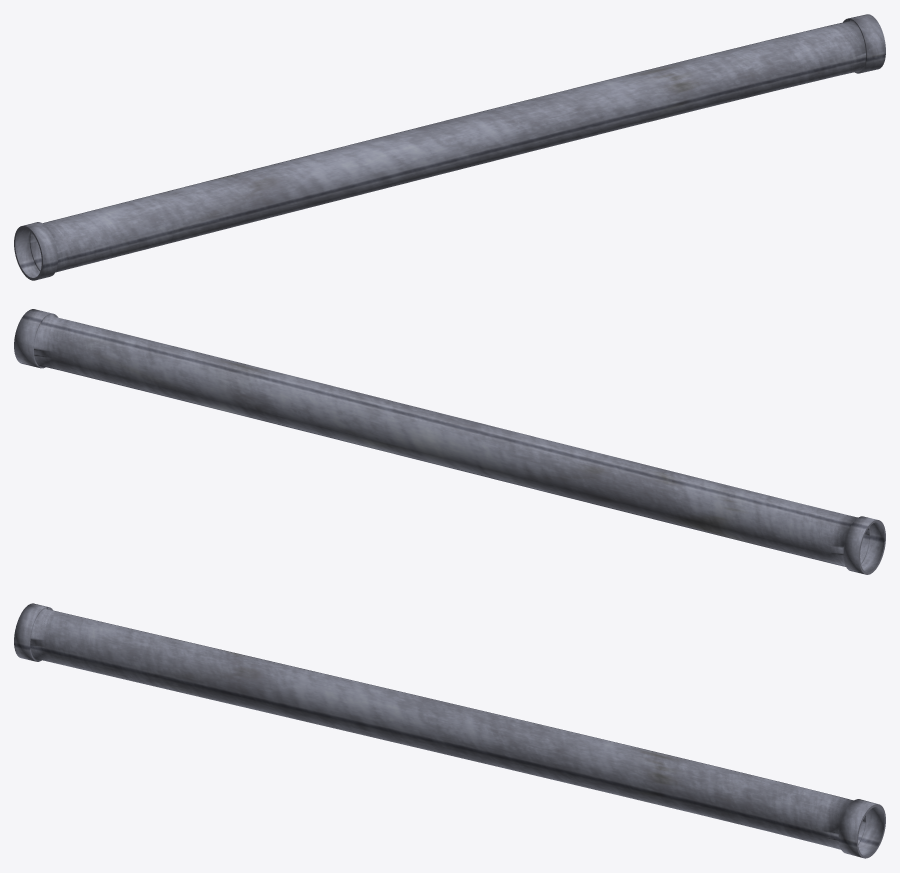
The model's file is pipestraight.glb.
3 views of the same model, one above another, from view 1: azimuth 30°, elevation 25°; view 2: azimuth 150°, elevation 25°; view 3: azimuth 330°, elevation 25° (orthographic).
Parts seen in each view (by area): view 1: BezierCurve; view 2: BezierCurve; view 3: BezierCurve.
Boxes of the visible parts, x1=… form: BezierCurve: x1=14, y1=14, x2=885, y2=280; BezierCurve: x1=14, y1=309, x2=885, y2=574; BezierCurve: x1=14, y1=603, x2=885, y2=858.
Size of the model in its own units: 8.02 by 0.5117 by 0.4695.
Materials: 1 (1 with a texture image).
